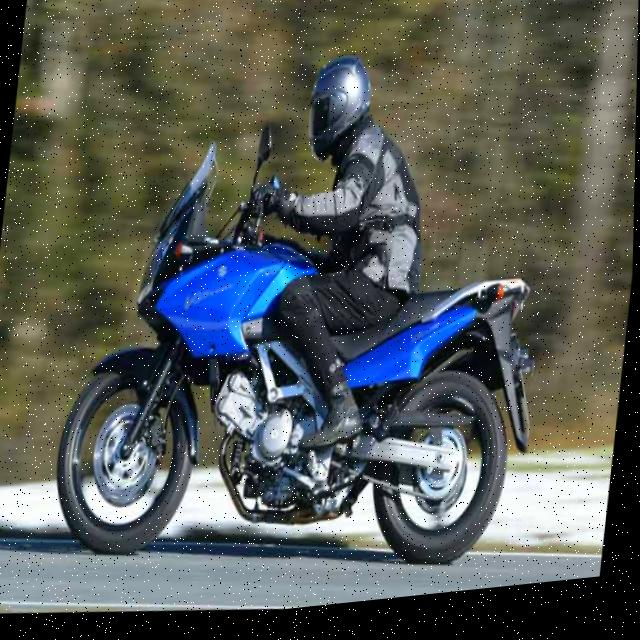helmet: (300, 53, 379, 177)
